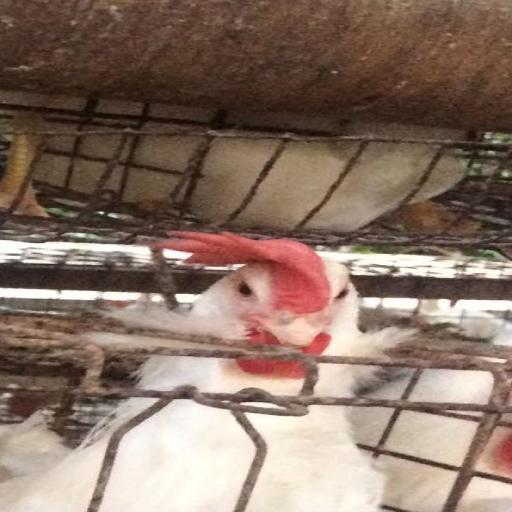healthy: (126, 218, 392, 384)
